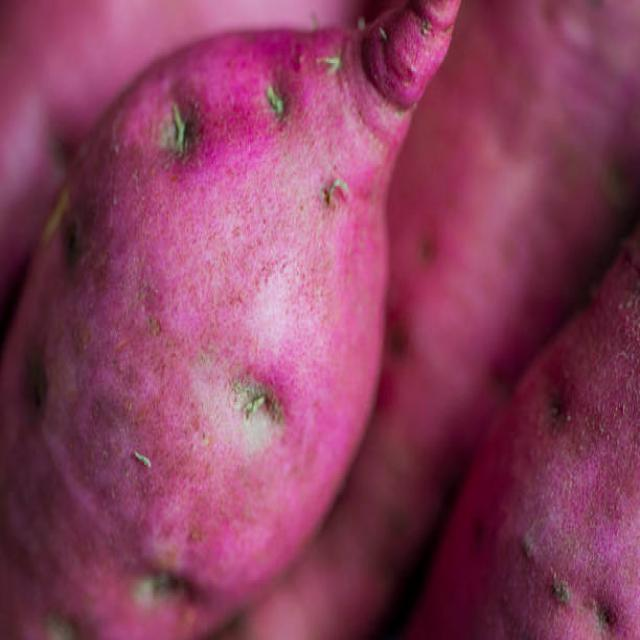Sweet Potato: (2, 0, 452, 640)
